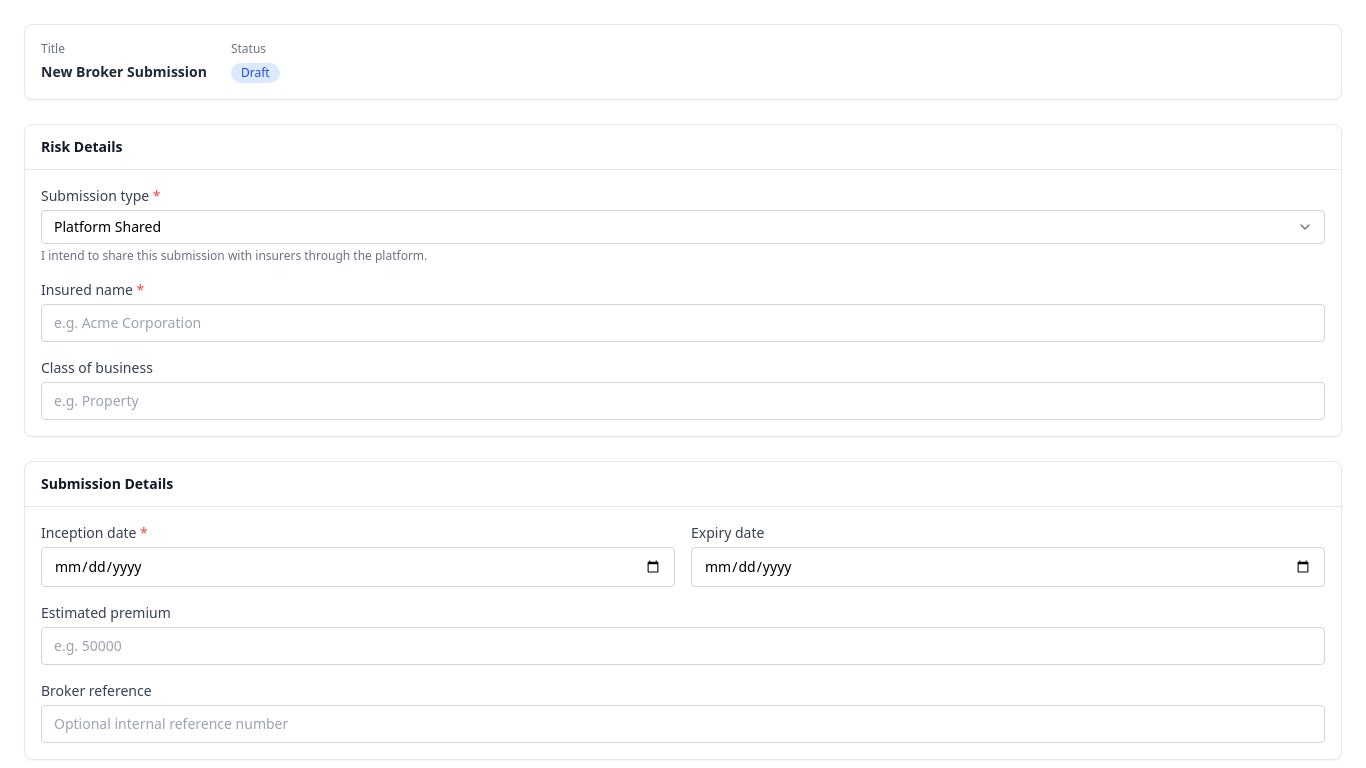
Scenario: REQ-PSS-BRK-NEW-F-003 — Type option descriptions › T-PSS-BRK-NEW-F003a: Manual type option shows the agreed description when selected
Clear the field labelled "Submission type *": {"x": 683, "y": 227} x1=41 y1=210 x2=1325 y2=244
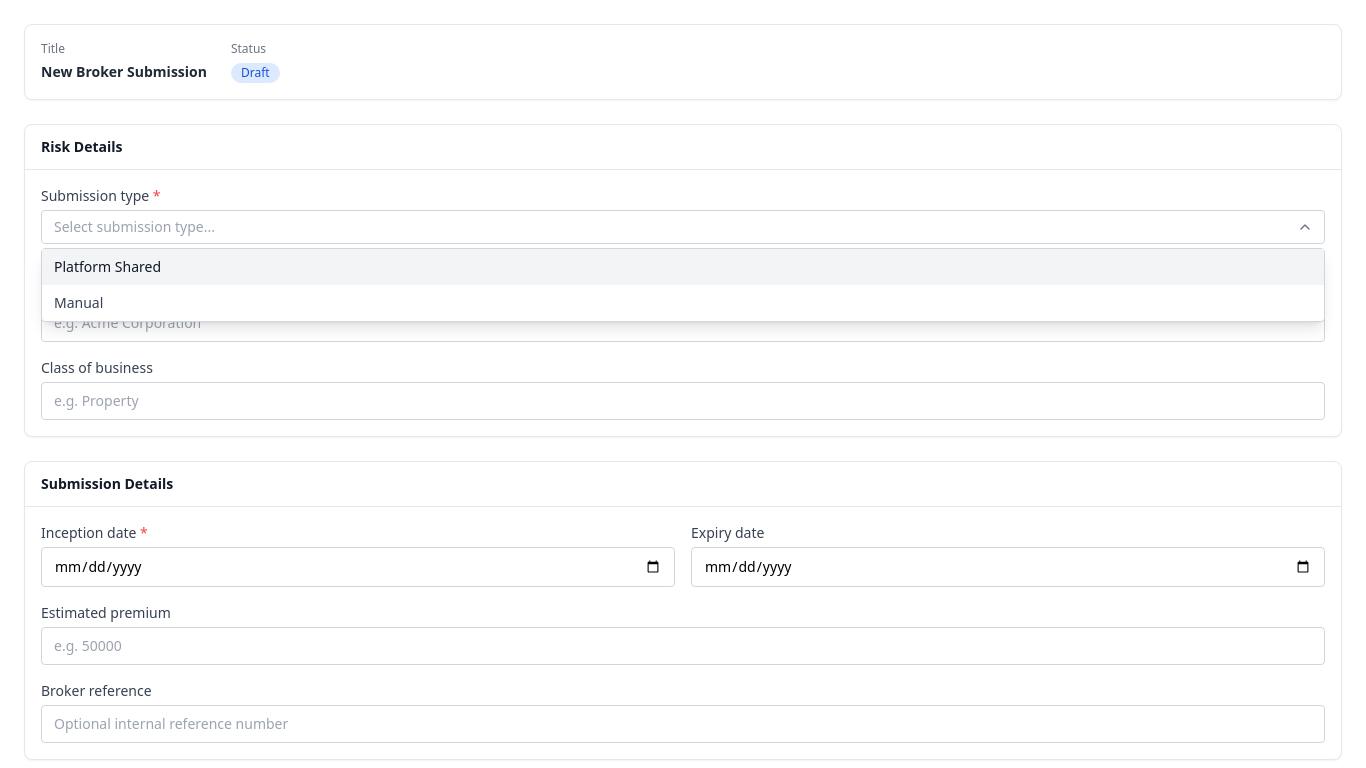
Click the button "Manual": {"x": 79, "y": 302} x1=42 y1=285 x2=1324 y2=321
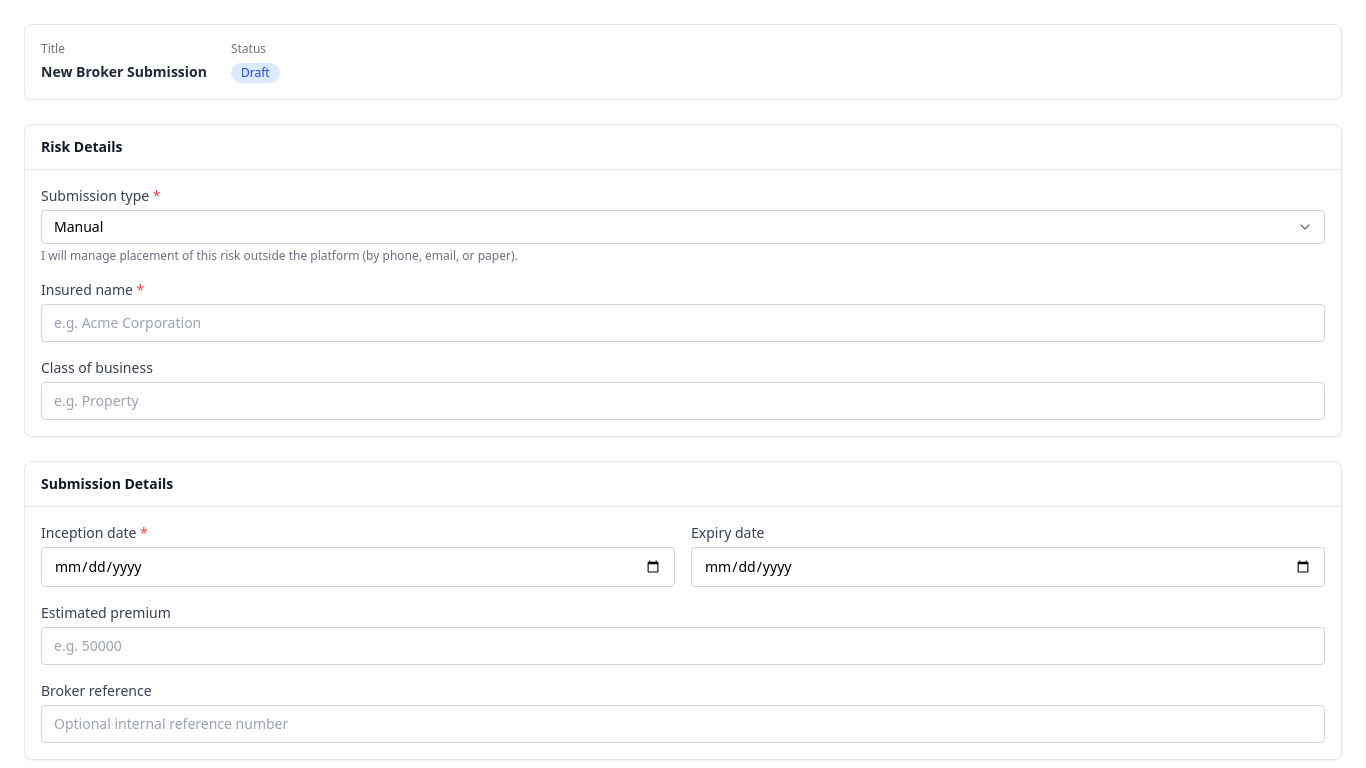
Check: the text "I will manage placement of this risk outside the platform" is shown, box x1=41 y1=247 x2=518 y2=264
